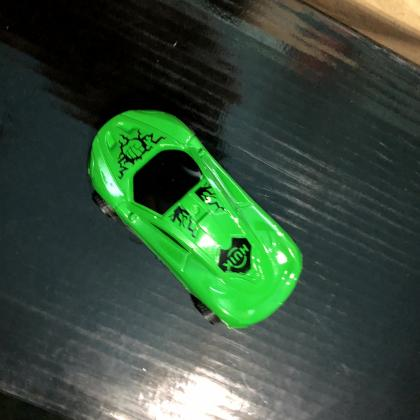Car: (84, 107, 306, 334)
